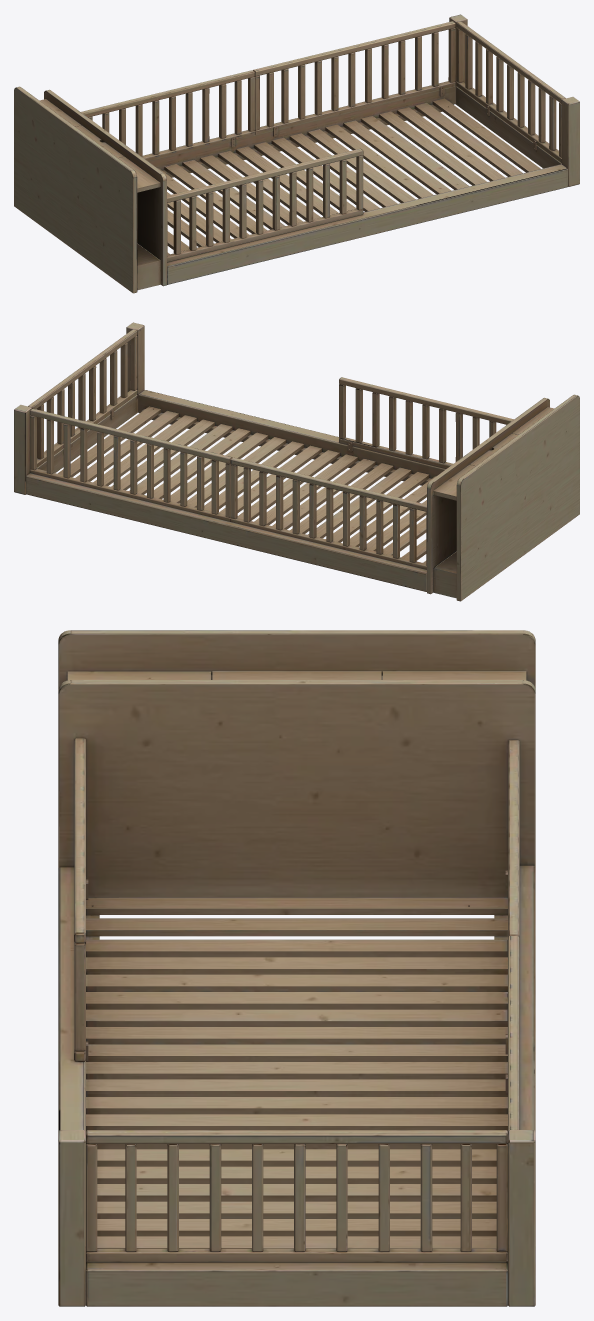
3 renders of one model, top to bottom at view 1: azimuth 30°, elevation 25°; view 2: azimuth 150°, elevation 25°; view 3: azimuth 270°, elevation 25°, orthographic. The views are drawn at different scales.
Parts seen in each view (by area): view 1: 200x90; view 2: 200x90; view 3: 200x90.
Part boxes in pixels (x1,y1,x2,y2): 200x90: [14, 14, 579, 293]; 200x90: [14, 322, 579, 601]; 200x90: [58, 630, 535, 1306].
Bounding box in the file's own units: 2.25 × 0.5799 × 1.04.
Materials: 1 (1 with a texture image).
